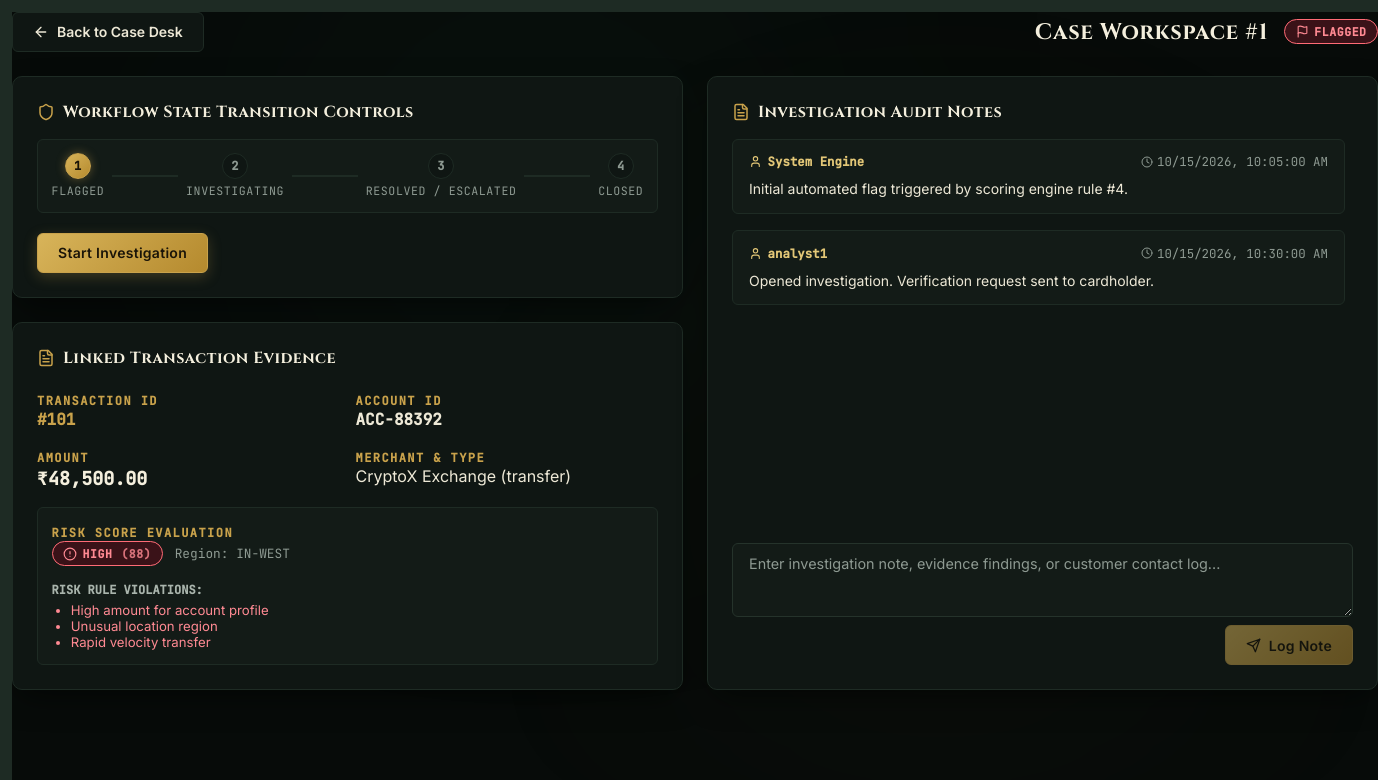
Test: CaseDetailPage › shows error message when an action fails and does not pretend it succeeded
Click the button "Start Investigation": (122, 253) [37,233,208,273]
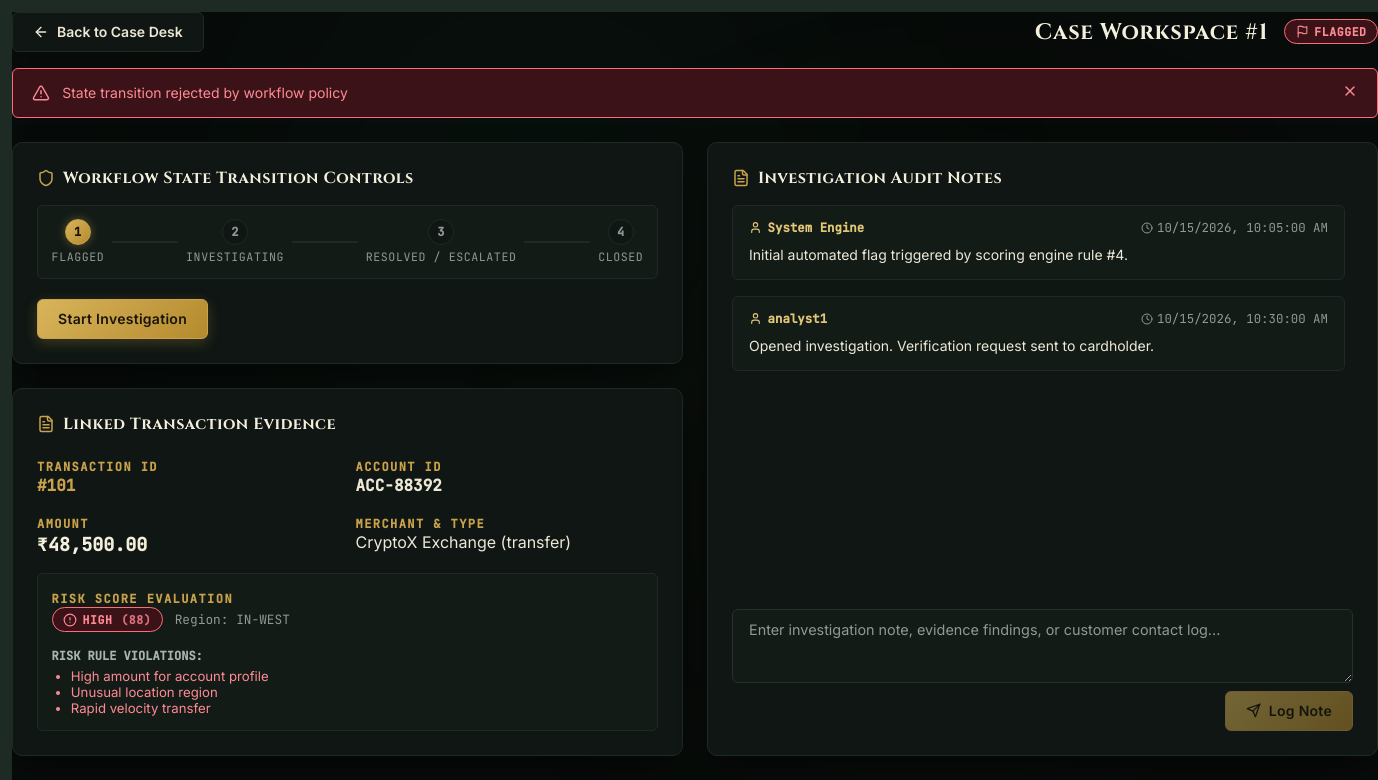
Check: the text "flagged" is shown, box [1314,24,1367,39]
Check: the text "State transition rejected by workflow policy" is shown, box [62,84,348,101]
